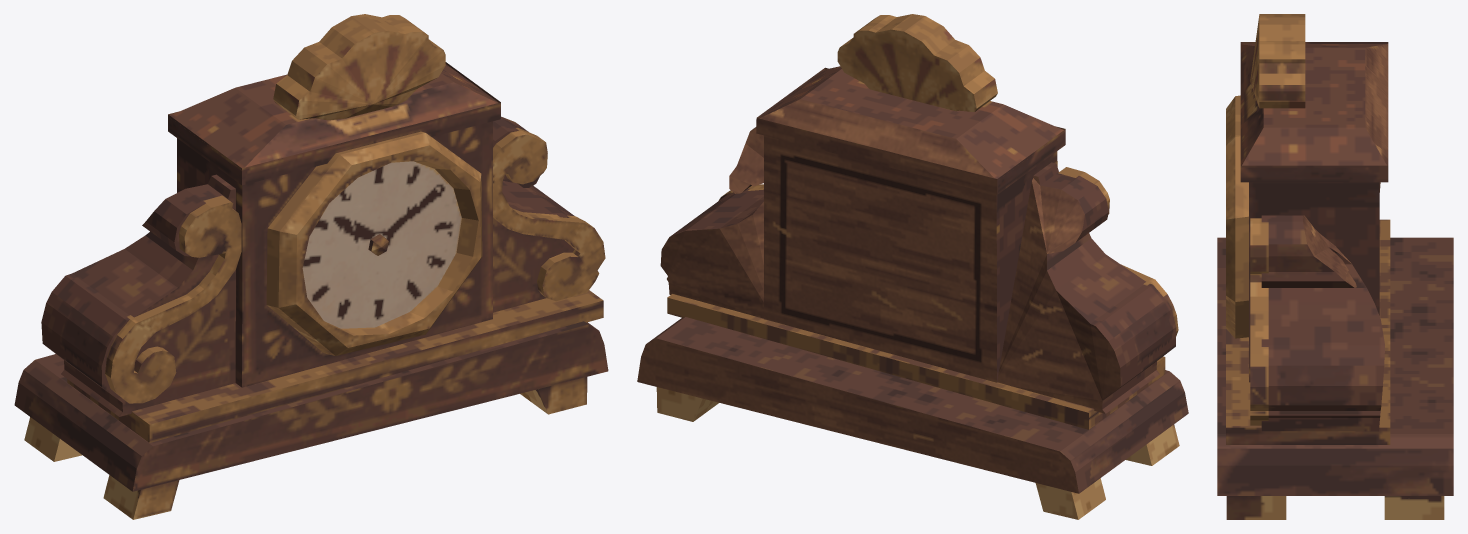
File: CI14_OrnateMantelClock.fbx
3 renders of one model, left to right at view 1: azimuth 30°, elevation 25°; view 2: azimuth 150°, elevation 25°; view 3: azimuth 270°, elevation 25°, orthographic. The views are drawn at different scales.
Parts seen in each view (by area): view 1: CI14_OrnateMantelClock; view 2: CI14_OrnateMantelClock; view 3: CI14_OrnateMantelClock.
Part boxes in pixels (bbox=[...]): CI14_OrnateMantelClock: bbox=[14, 14, 608, 519]; CI14_OrnateMantelClock: bbox=[637, 14, 1188, 519]; CI14_OrnateMantelClock: bbox=[1217, 14, 1453, 519].
Bounding box in the file's own units: 0.2508 × 0.1985 × 0.103.
Materials: 1 (1 with a texture image).
